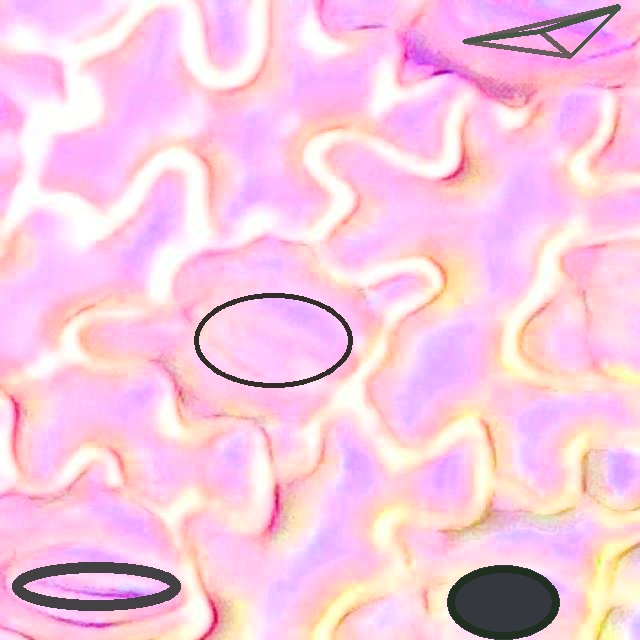open: (193, 292, 353, 387), (462, 4, 619, 58), (448, 565, 559, 640), (11, 562, 181, 609)
